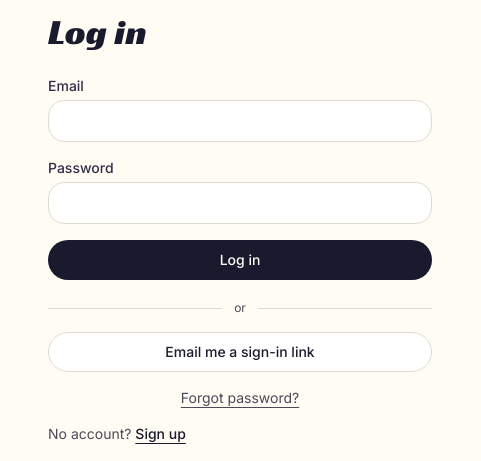
Test: LoginPage › requests a magic link and swaps to the code-entry panel
The width and height of the screenshot is (481, 461).
Type "a@example.com" into the field labelled "Email".
click(240, 121); type("a@example.com")  # box [48, 100, 432, 142]
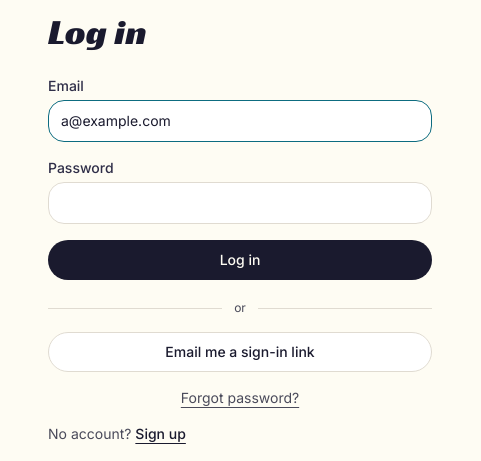
Click the button "Email me a sign-in link".
click(240, 352)  # box [48, 332, 432, 372]
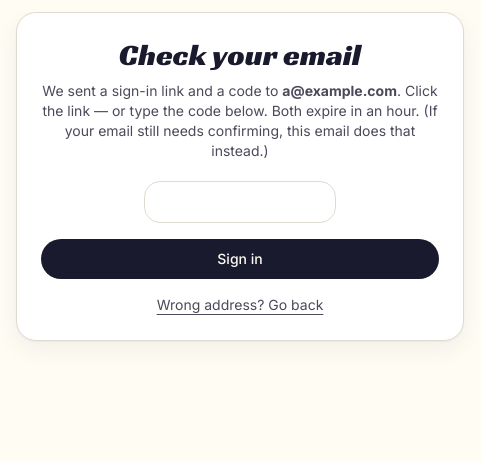
Expected: the heading "Check your email" is shown, [119, 36, 361, 74]
Expected: the field named "sign-in code" is shown, [144, 181, 336, 223]
